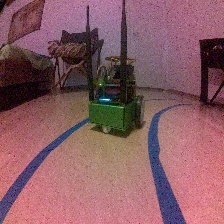rob: (85, 63, 145, 133)
